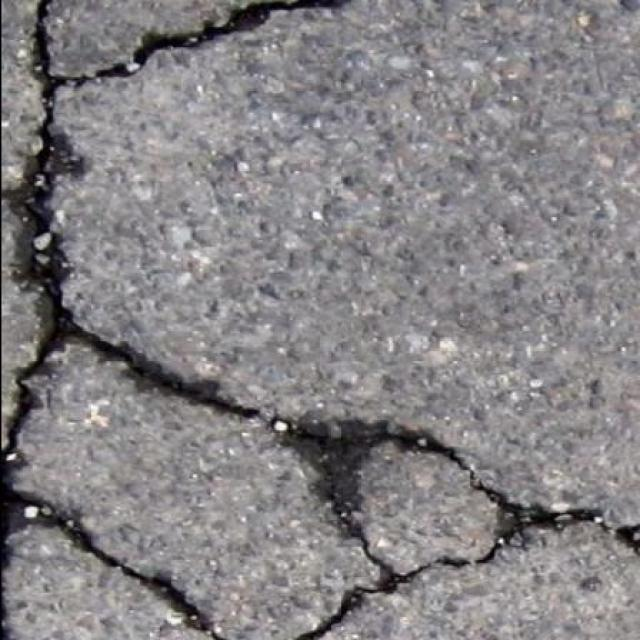Crack: (0, 0, 262, 640), (264, 412, 640, 640), (93, 1, 346, 79)
